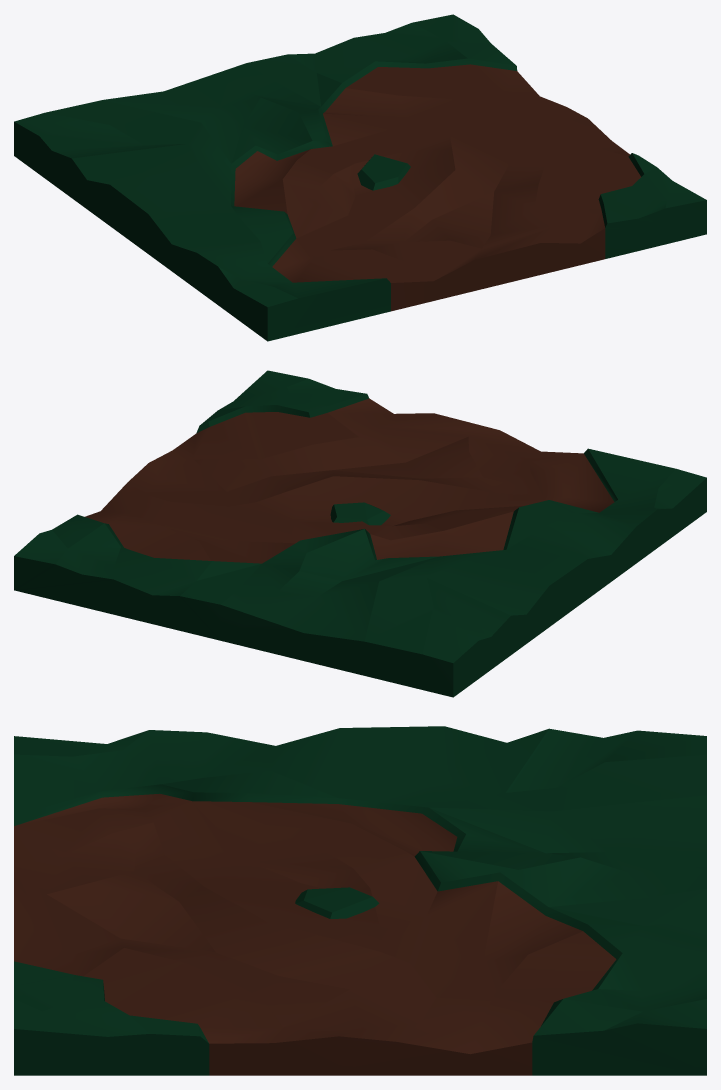
The model's file is Ground_Path_Turn_LU.fbx.
3 views of the same model, one above another, from view 1: azimuth 30°, elevation 25°; view 2: azimuth 150°, elevation 25°; view 3: azimuth 270°, elevation 25° (orthographic). The views are drawn at different scales.
Visible parts, largest first — view 1: Ground_Path_Turn_LU; view 2: Ground_Path_Turn_LU; view 3: Ground_Path_Turn_LU.
Boxes of the visible parts, x1=… form: Ground_Path_Turn_LU: x1=14, y1=14, x2=706, y2=341; Ground_Path_Turn_LU: x1=14, y1=370, x2=706, y2=697; Ground_Path_Turn_LU: x1=14, y1=726, x2=706, y2=1075.
Bounding box in the file's own units: 147 × 14.69 × 147.
